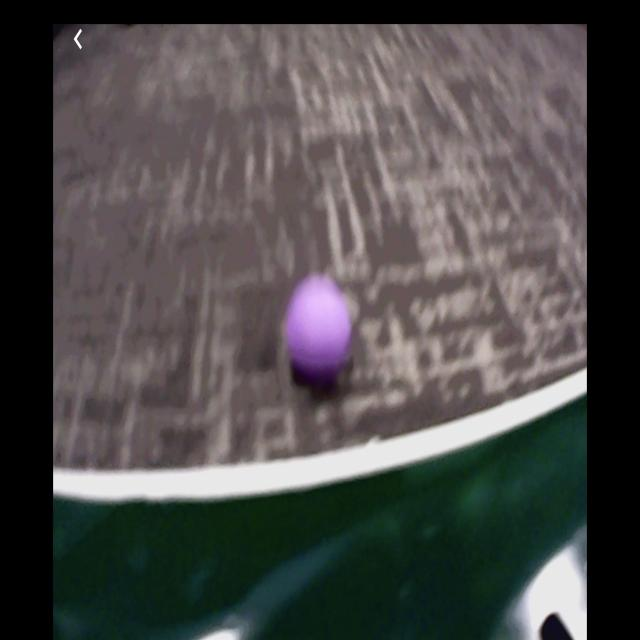ball: (287, 277, 352, 378)
